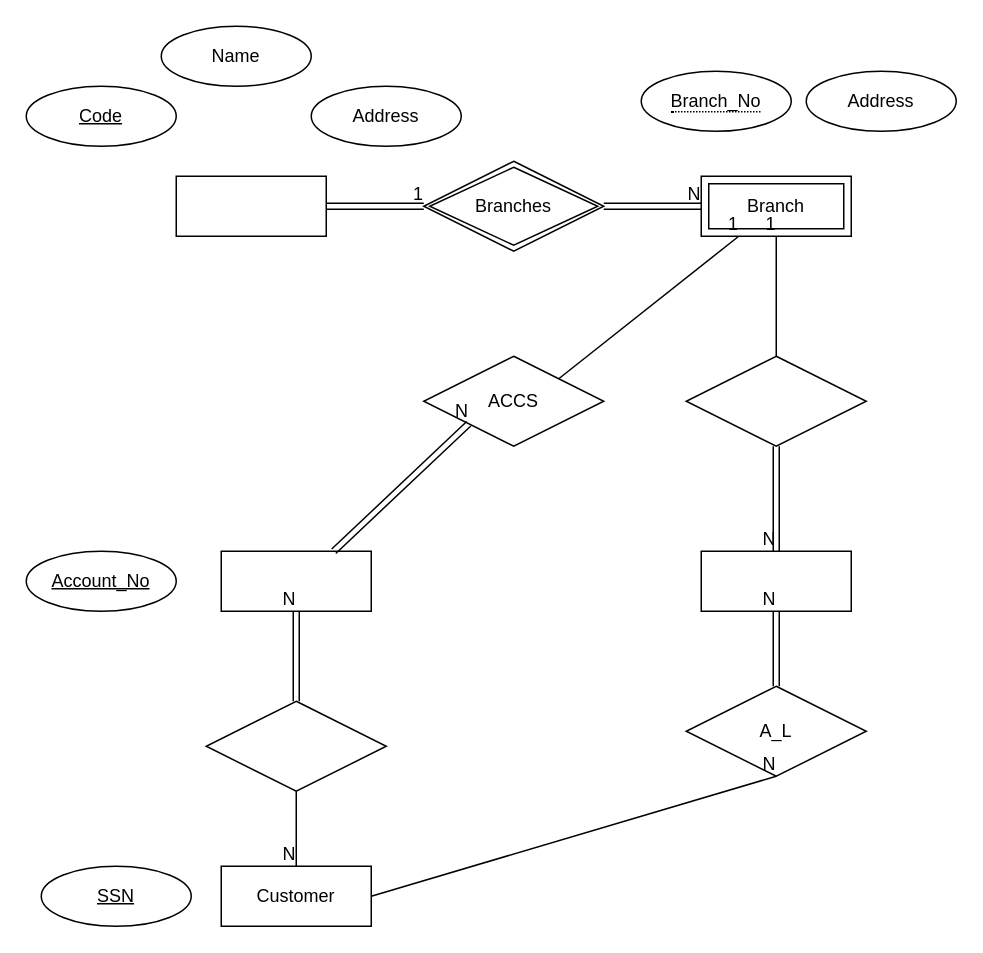
The diagram is 983 pixels wide and 953 high, and some of its shapes have lost their labels. The shapes that lost their labels are listed below. From the top down, each one's centre as x and y in pixels, then its label:
[250,205]: Bank
[775,400]: LOANS
[295,580]: Account
[775,580]: Loan
[295,745]: A_C
